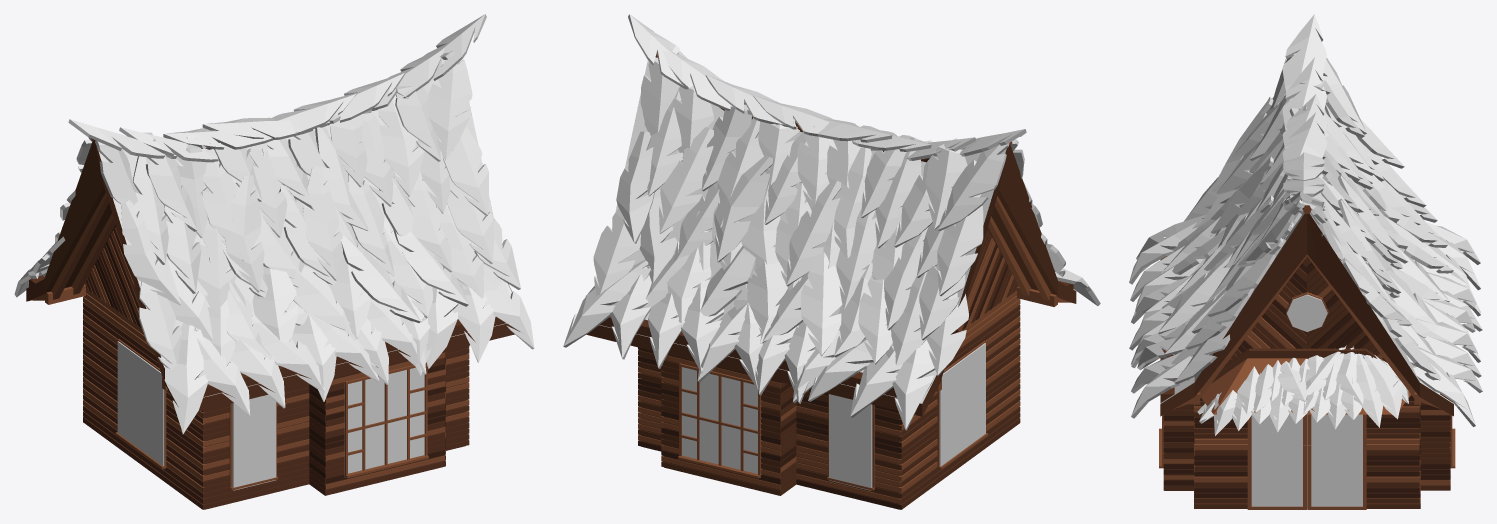
File: uploads_files_3654077_Beach+House_Pack+JSGraphics_CGTrader.fbx
3 views of the same model, side by side, from view 1: azimuth 30°, elevation 25°; view 2: azimuth 150°, elevation 25°; view 3: azimuth 270°, elevation 25° (orthographic). The views are drawn at different scales.
Parts seen in each view (by area): view 1: Cube.367, Cube.369, Cube.370, Cube.376, Cube.374, Cube.378, Cube.377, Plane.344, Plane.353, Plane.348, Cube.371, Plane.320 (+63 smaller); view 2: Cube.367, Cube.369, Cube.370, Cube.376, Cube.374, Cube.378, Cube.377, Plane.294, Plane.277, Plane.299, Plane.289, Plane.285 (+62 smaller); view 3: Cube.369, Cube.379, Cube.367, Cube.371, Cube.375, Cube.366, Plane.366, Plane.336, Cube.373, Plane.365, Cube.368, Cube.382 (+82 smaller).
Part boxes in pixels (x1=…): Cube.367: x1=26, y1=61, x2=519, y2=509; Cube.369: x1=83, y1=288, x2=468, y2=509; Cube.370: x1=83, y1=297, x2=469, y2=509; Cube.376: x1=344, y1=367, x2=424, y2=477; Cube.374: x1=325, y1=351, x2=445, y2=495; Cube.378: x1=117, y1=341, x2=164, y2=466; Cube.377: x1=232, y1=394, x2=276, y2=490; Plane.344: x1=428, y1=60, x2=472, y2=160; Plane.353: x1=225, y1=175, x2=264, y2=292; Plane.348: x1=303, y1=166, x2=342, y2=280; Cube.371: x1=85, y1=226, x2=141, y2=328; Plane.320: x1=164, y1=323, x2=208, y2=434; Cube.367: x1=586, y1=60, x2=1076, y2=509; Cube.369: x1=638, y1=291, x2=1019, y2=509; Cube.370: x1=638, y1=299, x2=1020, y2=509; Cube.376: x1=682, y1=367, x2=761, y2=477; Cube.374: x1=661, y1=354, x2=780, y2=495; Cube.378: x1=939, y1=343, x2=985, y2=466; Cube.377: x1=829, y1=394, x2=872, y2=490; Plane.294: x1=714, y1=155, x2=774, y2=262; Plane.277: x1=801, y1=252, x2=842, y2=356; Plane.299: x1=659, y1=127, x2=713, y2=233; Plane.289: x1=786, y1=179, x2=841, y2=286; Plane.285: x1=937, y1=143, x2=1009, y2=230; Cube.369: x1=1194, y1=395, x2=1419, y2=508; Cube.379: x1=1251, y1=414, x2=1362, y2=508; Cube.367: x1=1160, y1=75, x2=1453, y2=416; Cube.371: x1=1226, y1=256, x2=1386, y2=364; Cube.375: x1=1163, y1=402, x2=1450, y2=490; Cube.366: x1=1247, y1=414, x2=1366, y2=509; Plane.366: x1=1282, y1=14, x2=1326, y2=100; Plane.336: x1=1158, y1=253, x2=1232, y2=334; Cube.373: x1=1201, y1=358, x2=1411, y2=414; Plane.365: x1=1282, y1=57, x2=1326, y2=130; Cube.368: x1=1164, y1=404, x2=1449, y2=490; Cube.382: x1=1198, y1=254, x2=1415, y2=397.
Bounding box in the file's own units: 1728 × 1485 × 1356.
